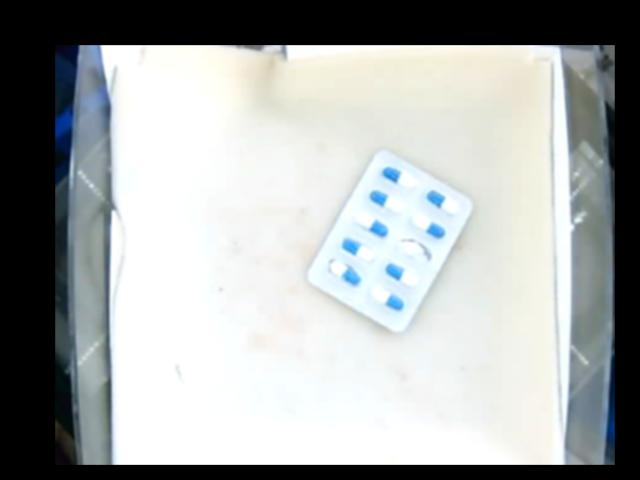Medicine: (307, 146, 475, 332)
